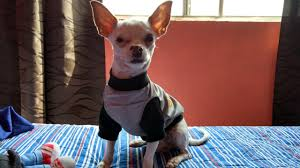chihuahua: (75, 1, 204, 168)
